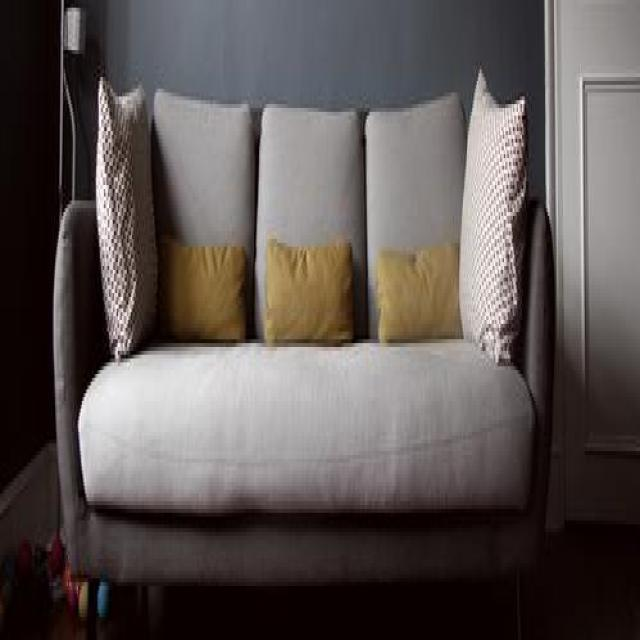sofa: (52, 85, 556, 628)
